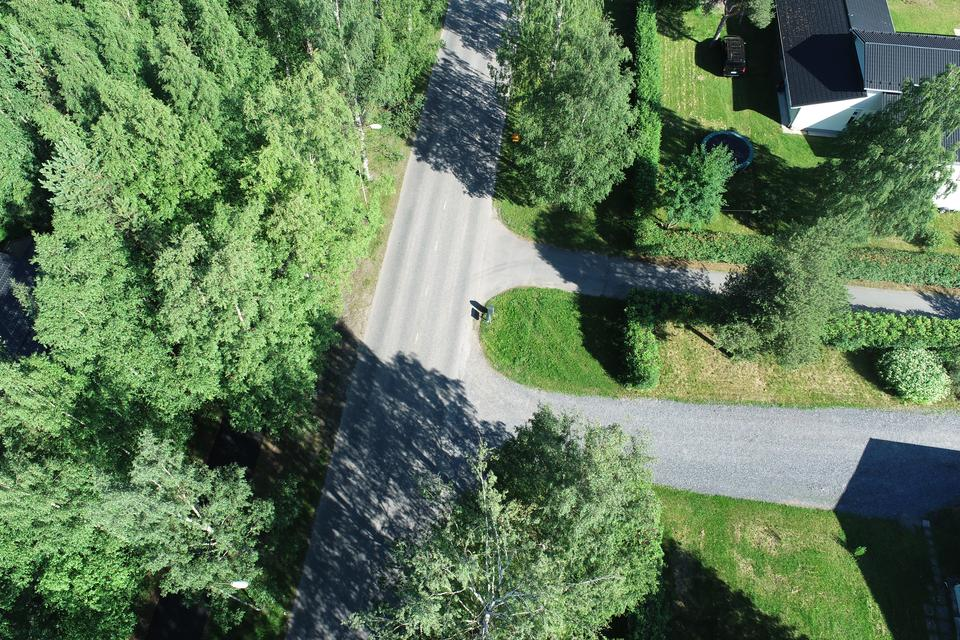intersection: (301, 340, 549, 501), (349, 186, 562, 321)
